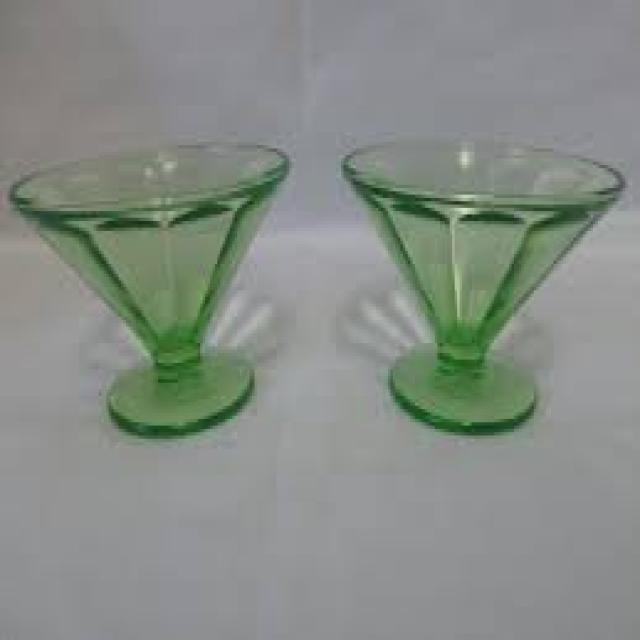glass: (8, 139, 289, 432), (339, 139, 623, 426)
